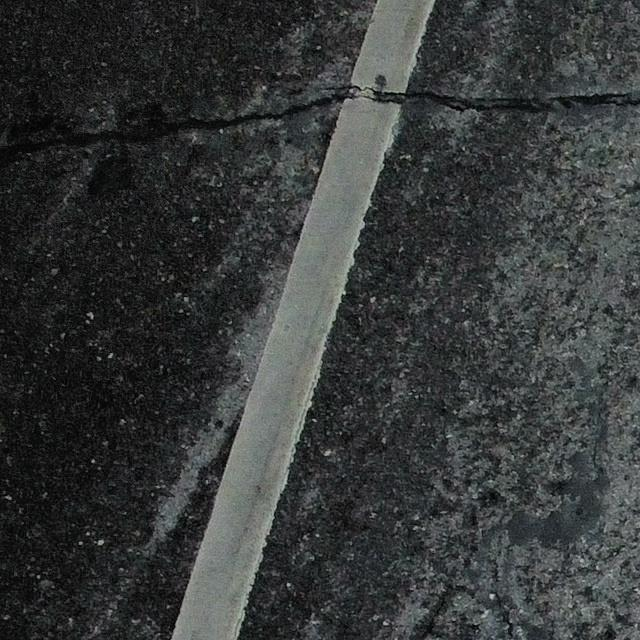TransverseCrack: (2, 84, 640, 153)
